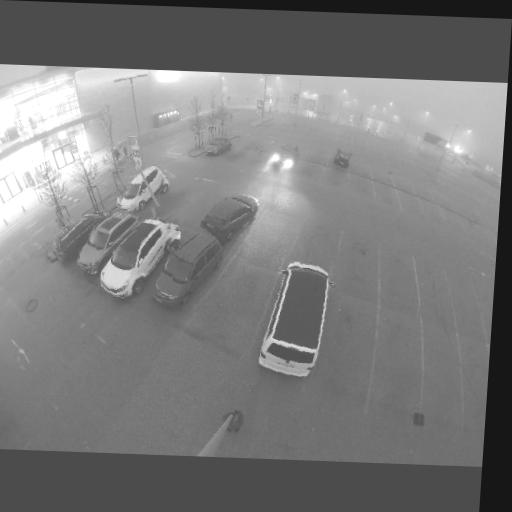busy: (239, 249, 345, 387), (97, 215, 177, 302), (147, 224, 224, 313), (75, 211, 138, 275), (196, 193, 258, 241), (114, 166, 169, 215), (46, 215, 98, 262), (266, 147, 301, 172), (202, 136, 230, 157), (330, 147, 353, 170)
free: (324, 317, 373, 380), (373, 333, 423, 394), (216, 273, 268, 325), (422, 349, 460, 399), (378, 261, 415, 312), (338, 251, 378, 291), (254, 218, 292, 256), (297, 233, 337, 269), (416, 277, 448, 322), (343, 226, 380, 258), (183, 191, 215, 221), (450, 294, 481, 321), (159, 190, 183, 216), (348, 179, 370, 197), (373, 187, 394, 205), (401, 197, 421, 214), (422, 205, 440, 222), (325, 171, 345, 186)
